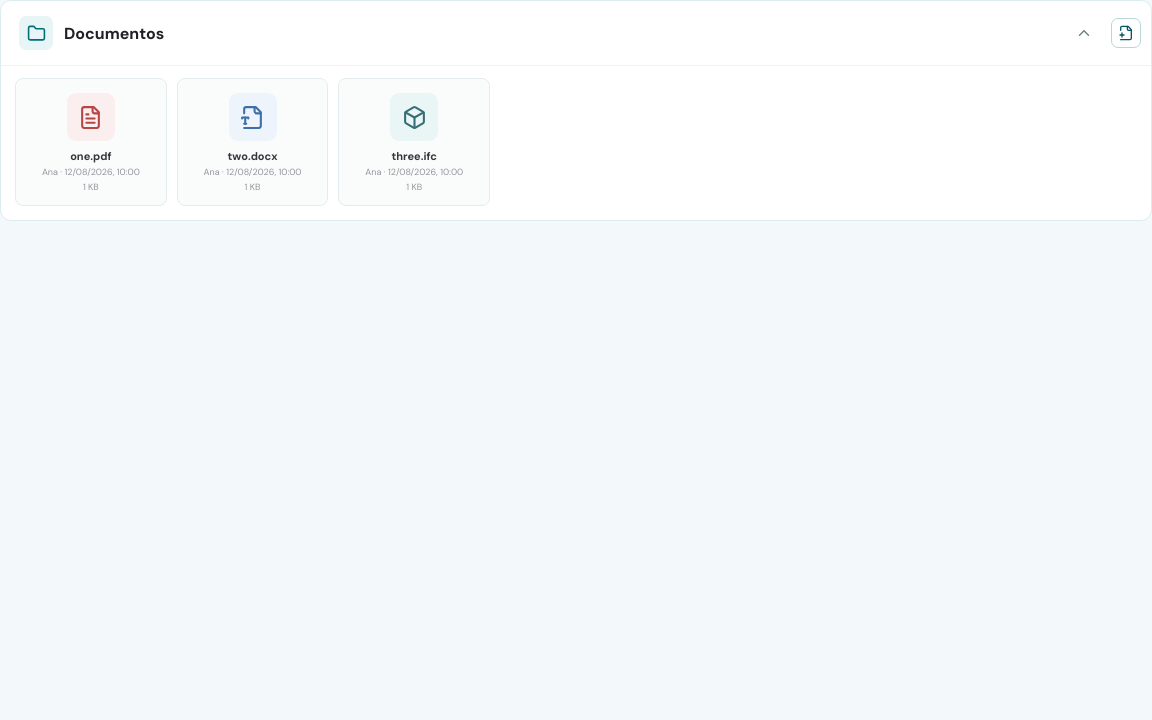
Test: ProjectDocuments › keeps failed deletions selected after a partial batch failure
This screenshot has width=1152, height=720.
Click the option "one.pdf Ana · 12/08/2026, 10:00 1 KB" at (91, 142), box [16,79,166,205]
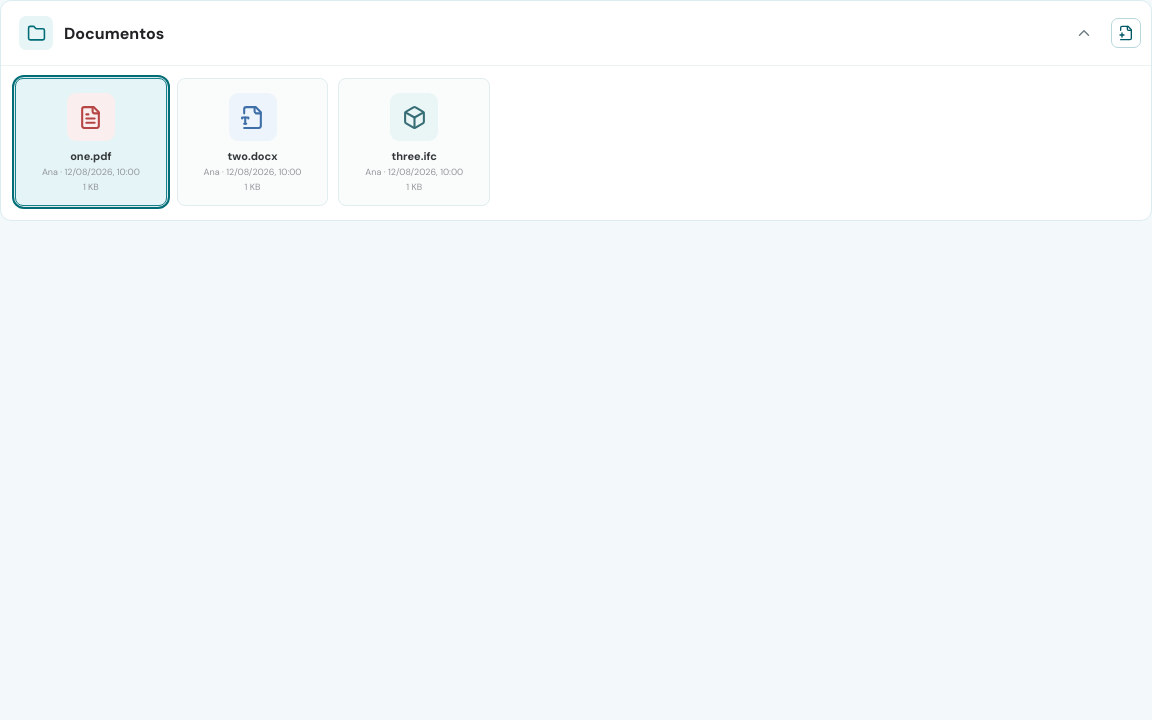
Type keys "{Control>}"
Click the option "two.docx Ana · 12/08/2026, 10:00 1 KB" at (253, 142), box [178,79,327,205]
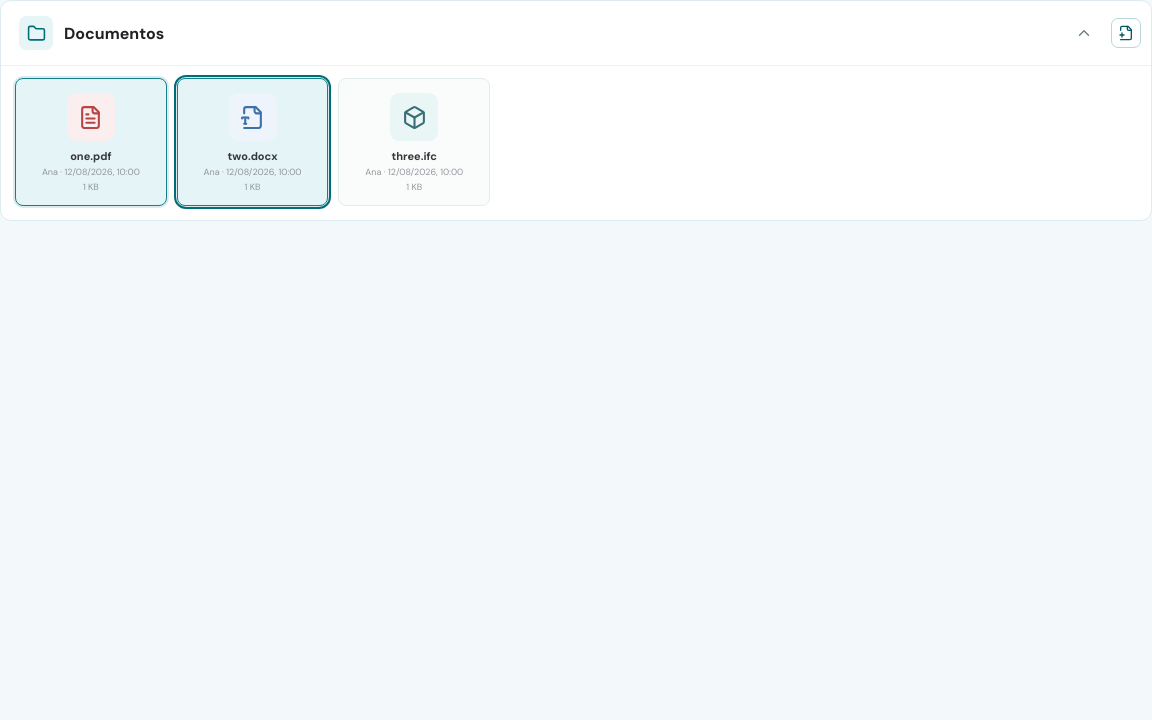
Type keys "{/Control}{Delete}"
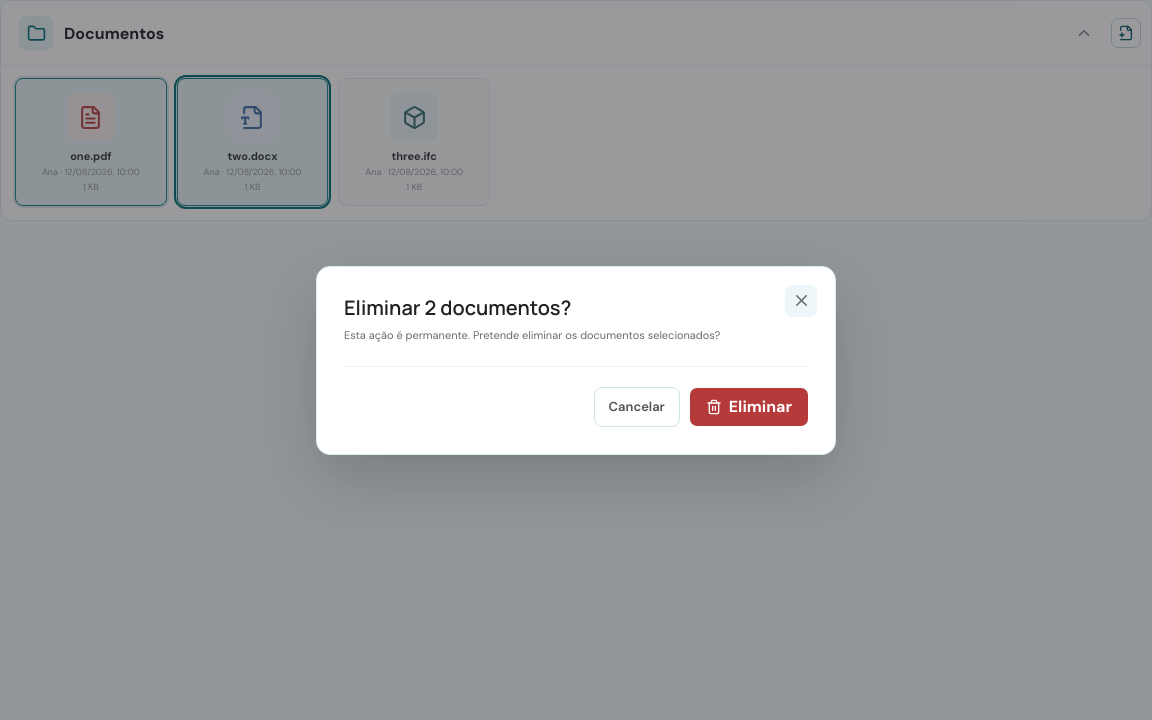
Click the button "Eliminar" at (749, 406), box [690,388,808,426]
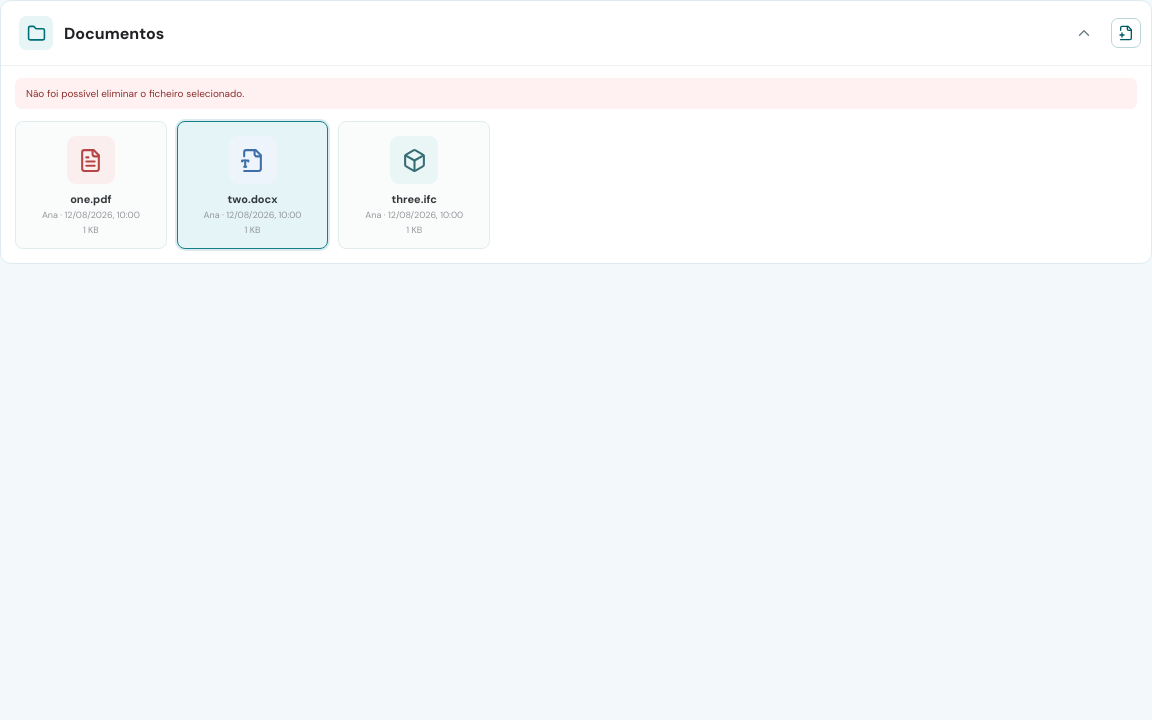
Check: the message shows "ficheiro selecionado", box [26,87,244,100]
